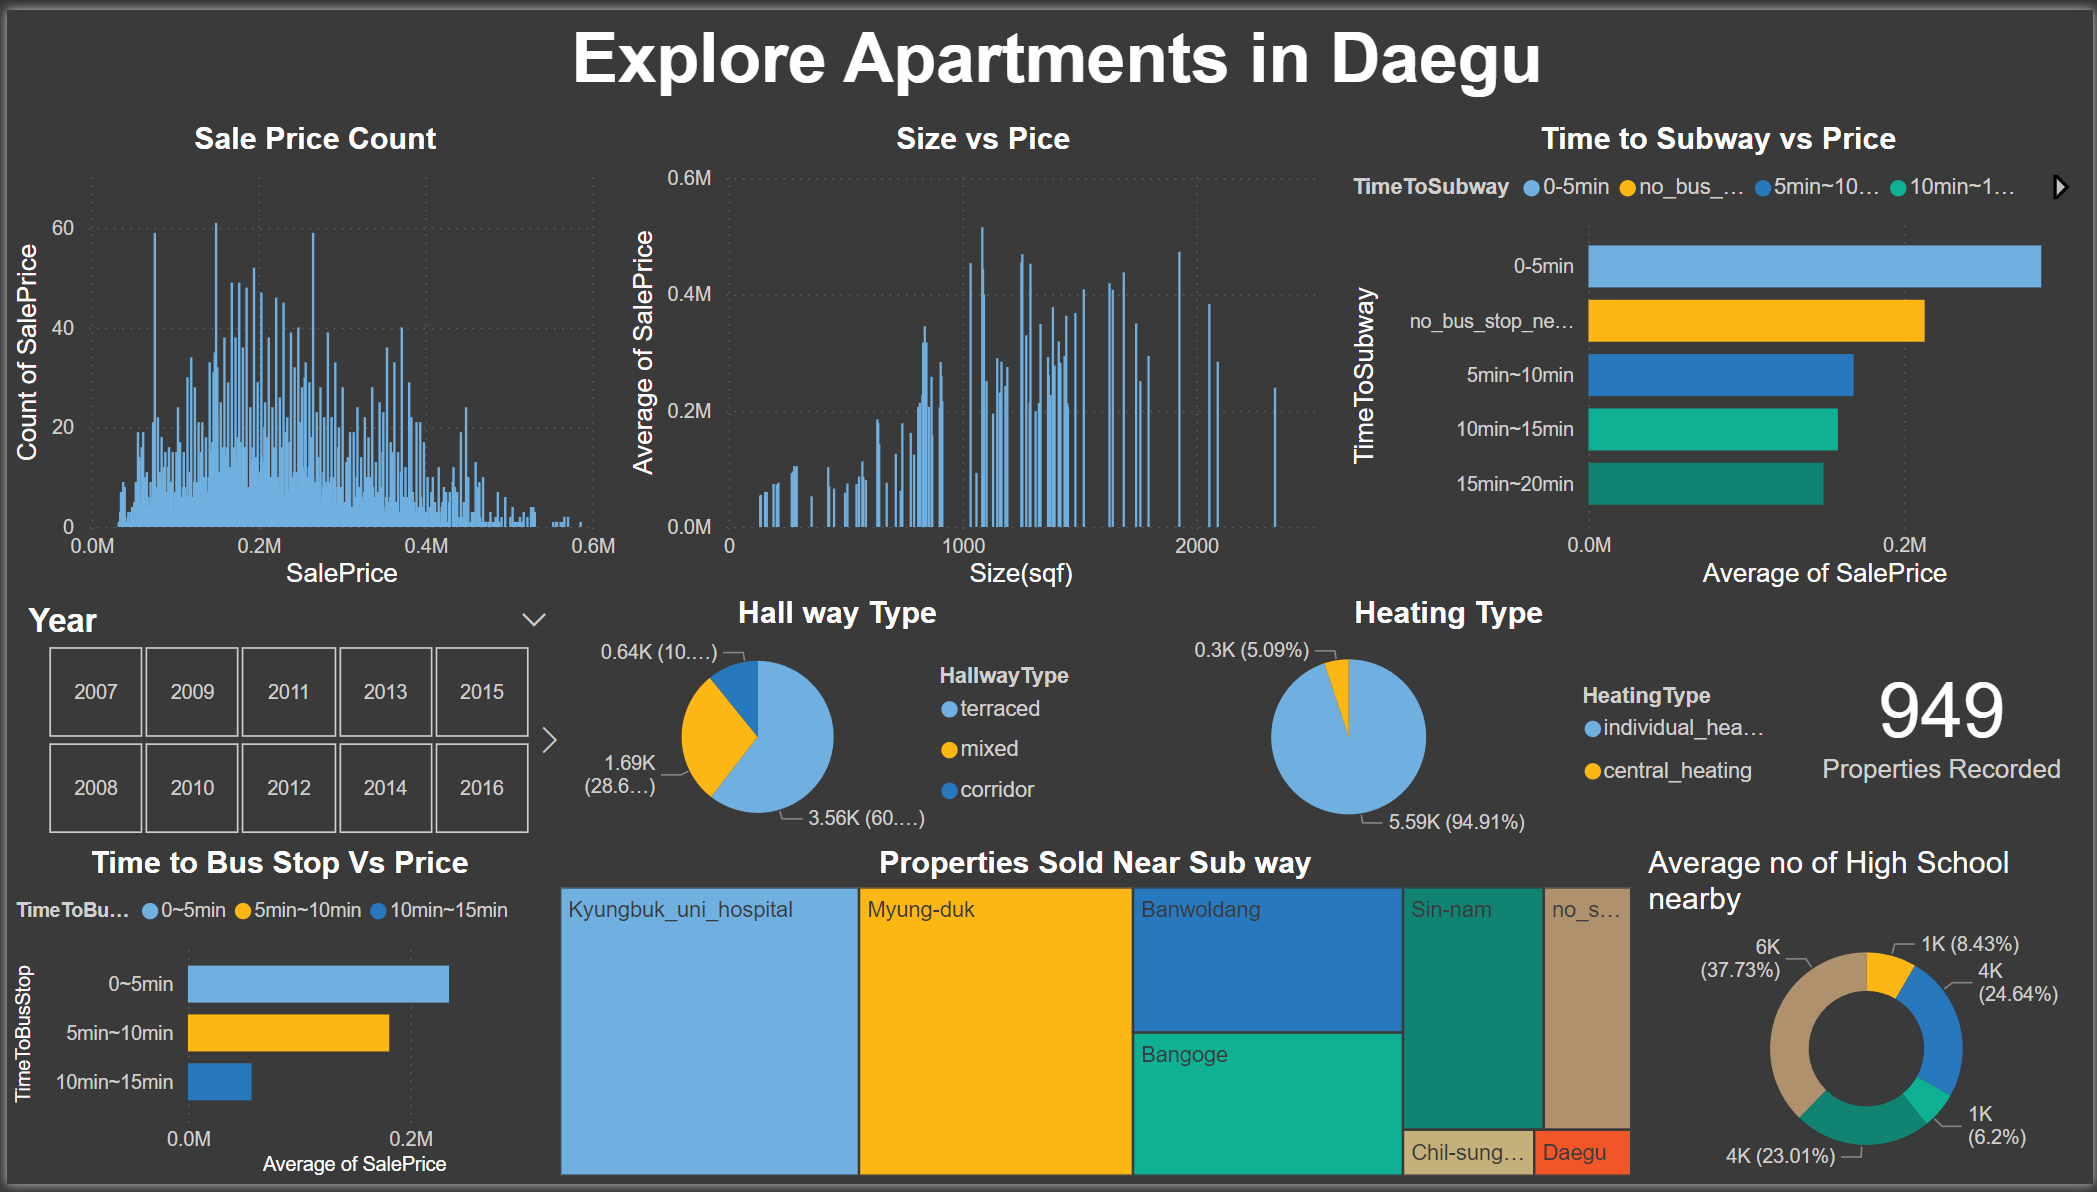

This screenshot's page, from the dashboard's own definition file:
{"tool":"powerbi","page":{"name":"Page 1","canvas":[1280,720],"ordinal":0},"visuals":[{"type":"textbox","box":[9.4,0,1269.9,68],"z":0},{"type":"clusteredColumnChart","title":"Sale Price Count","fields":{"Category":["Daegu_Real_Estate_data.SalePrice"],"Y":["CountNonNull(Daegu_Real_Estate_data.SalePrice)"]},"box":[0,68,378,291],"z":1000},{"type":"slicer","fields":{"Values":["Daegu_Real_Estate_data.YrSold"]},"box":[0,359.1,343.9,153.1],"z":2000},{"type":"clusteredColumnChart","title":"Size vs Pice","fields":{"Category":["Daegu_Real_Estate_data.Size(sqf)"],"Y":["Avg(Daegu_Real_Estate_data.SalePrice)"]},"box":[378,68,442.2,291],"z":3000},{"type":"pieChart","title":"Heating Type","fields":{"Category":["Daegu_Real_Estate_data.HeatingType"],"Y":["CountNonNull(Daegu_Real_Estate_data.HeatingType)"]},"box":[674.7,359.1,419.5,153.1],"z":4000},{"type":"pieChart","title":"Hall way Type","fields":{"Y":["CountNonNull(Daegu_Real_Estate_data.HallwayType)"],"Category":["Daegu_Real_Estate_data.HallwayType"]},"box":[343.9,359.1,330.7,153.1],"z":5000},{"type":"barChart","title":"Time to Subway vs Price","fields":{"Y":["Avg(Daegu_Real_Estate_data.SalePrice)"],"Series":["Daegu_Real_Estate_data.TimeToSubway"],"Category":["Daegu_Real_Estate_data.TimeToSubway"]},"box":[820.2,68,459.2,291],"z":6000},{"type":"barChart","title":"Time to Bus Stop Vs Price","fields":{"Category":["Daegu_Real_Estate_data.TimeToBusStop"],"Y":["Avg(Daegu_Real_Estate_data.SalePrice)"],"Series":["Daegu_Real_Estate_data.TimeToBusStop"]},"box":[0,512.1,334.5,207.9],"z":7000},{"type":"treemap","title":"Properties Sold Near Sub way","fields":{"Values":["CountNonNull(Daegu_Real_Estate_data.SubwayStation)"],"Group":["Daegu_Real_Estate_data.SubwayStation"]},"box":[334.5,512.1,667.1,207.9],"z":8000},{"type":"donutChart","title":"Average no of High School nearby","fields":{"Y":["Sum(Daegu_Real_Estate_data.N_SchoolNearBy(High))"],"Series":["Daegu_Real_Estate_data.N_SchoolNearBy(High)"]},"box":[1001.6,512.1,277.8,207.9],"z":9000},{"type":"card","fields":{"Values":["Count(Daegu_Real_Estate_data.SalePrice)"]},"box":[1094.2,359.1,185.2,153.1],"z":10000}]}

Visuals, with their boxes in screenshot pixels (x1, y1, x2, y2), scaled from the page's 1280x720 canvas onto the 2097x1192 screenshot:
textbox: bbox=(15, 0, 2096, 113)
"Sale Price Count" clusteredColumnChart: bbox=(0, 113, 619, 594)
slicer - Daegu_Real_Estate_data.YrSold: bbox=(0, 595, 563, 848)
"Size vs Pice" clusteredColumnChart: bbox=(619, 113, 1344, 594)
"Heating Type" pieChart: bbox=(1105, 595, 1793, 848)
"Hall way Type" pieChart: bbox=(563, 595, 1105, 848)
"Time to Subway vs Price" barChart: bbox=(1344, 113, 2096, 594)
"Time to Bus Stop Vs Price" barChart: bbox=(0, 848, 548, 1191)
"Properties Sold Near Sub way" treemap: bbox=(548, 848, 1641, 1191)
"Average no of High School nearby" donutChart: bbox=(1641, 848, 2096, 1191)
card - Count(Daegu_Real_Estate_data.SalePrice): bbox=(1793, 595, 2096, 848)
